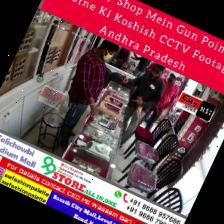person: (60, 40, 119, 150), (120, 64, 164, 147), (139, 72, 179, 131), (133, 54, 151, 77), (114, 48, 130, 68), (146, 62, 155, 73)
